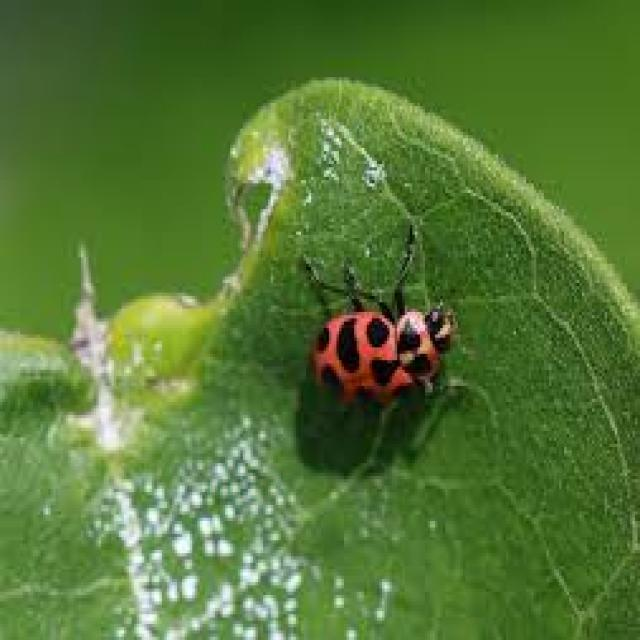bug: (297, 224, 462, 417)
